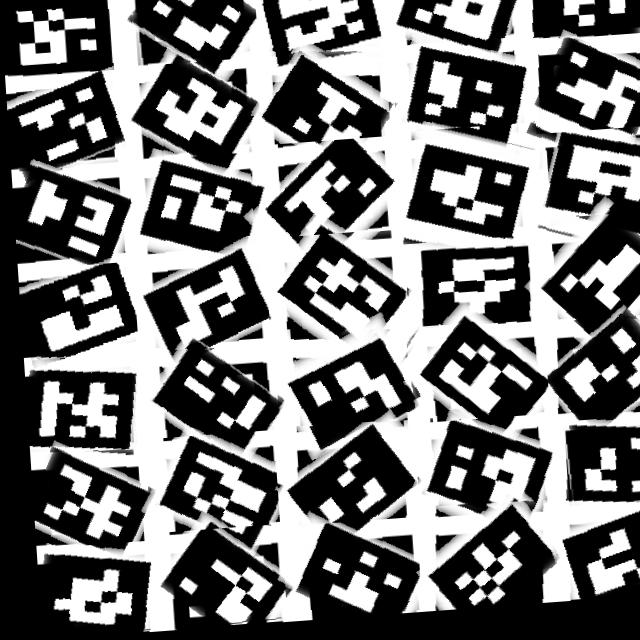aruco: (260, 232, 429, 375), (247, 141, 408, 283), (267, 423, 433, 558), (389, 130, 541, 275), (398, 317, 554, 456), (265, 325, 419, 454), (386, 44, 536, 171), (126, 155, 277, 281), (136, 433, 284, 561), (405, 421, 553, 547), (120, 61, 269, 184), (129, 249, 283, 368), (255, 48, 392, 178), (138, 345, 282, 468), (408, 504, 558, 618), (524, 219, 640, 358), (272, 522, 426, 626), (144, 527, 294, 633), (528, 40, 640, 177), (399, 242, 543, 346), (14, 263, 145, 377), (24, 446, 150, 563), (9, 165, 137, 277), (4, 71, 134, 179), (531, 136, 640, 262), (19, 354, 138, 467), (29, 542, 154, 640), (128, 0, 266, 87), (539, 322, 640, 440), (254, 0, 391, 80), (386, 0, 522, 74), (546, 508, 640, 610), (0, 0, 113, 84), (555, 424, 640, 531), (518, 0, 640, 50)
